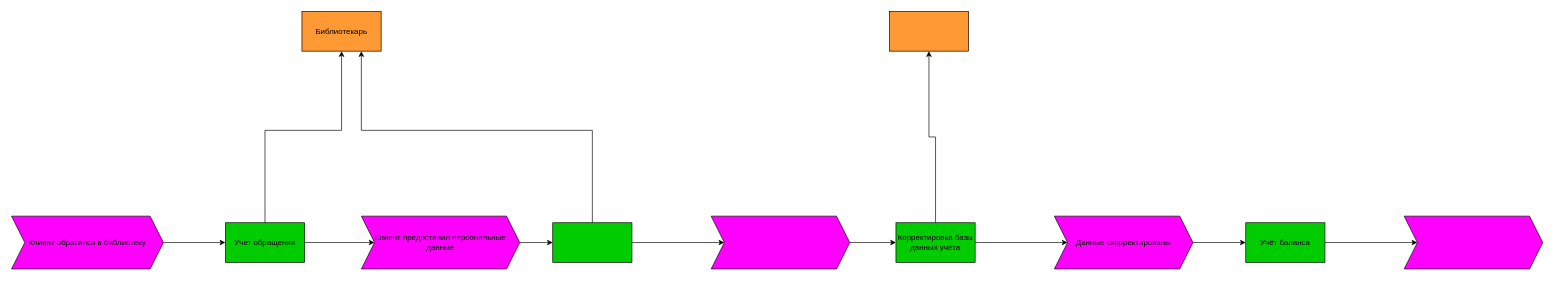
Image size: 1554x281. Some labels were removed from this diagram. Each missing label, with the centre of its shape:
"Баланс учтён" belongs at point 1473,242.
"Книги выданы/получены" belongs at point 780,242.
"Получение/Выдача книги" belongs at point 592,242.
"Учётный отдел" belongs at point 929,31.
